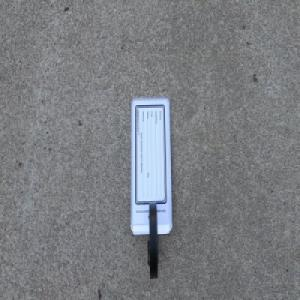LuggageTag: (128, 93, 174, 280)
